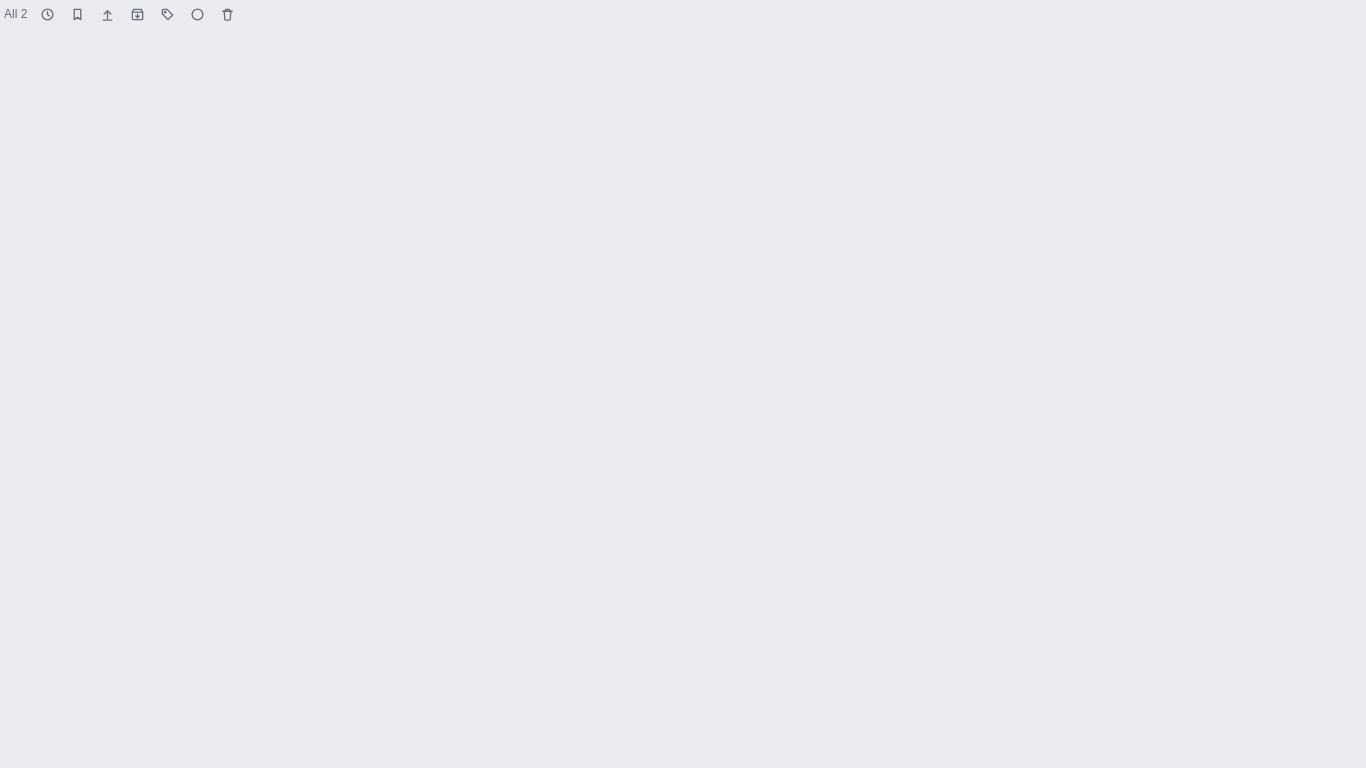
Test: bundle actions › marks seen only the emails that aren’t
What coordinates should you click on to do the following:
click the button named "Mark the whole bundle seen"
I would click on:
 (197, 14)
Its box is [183,0,211,28].
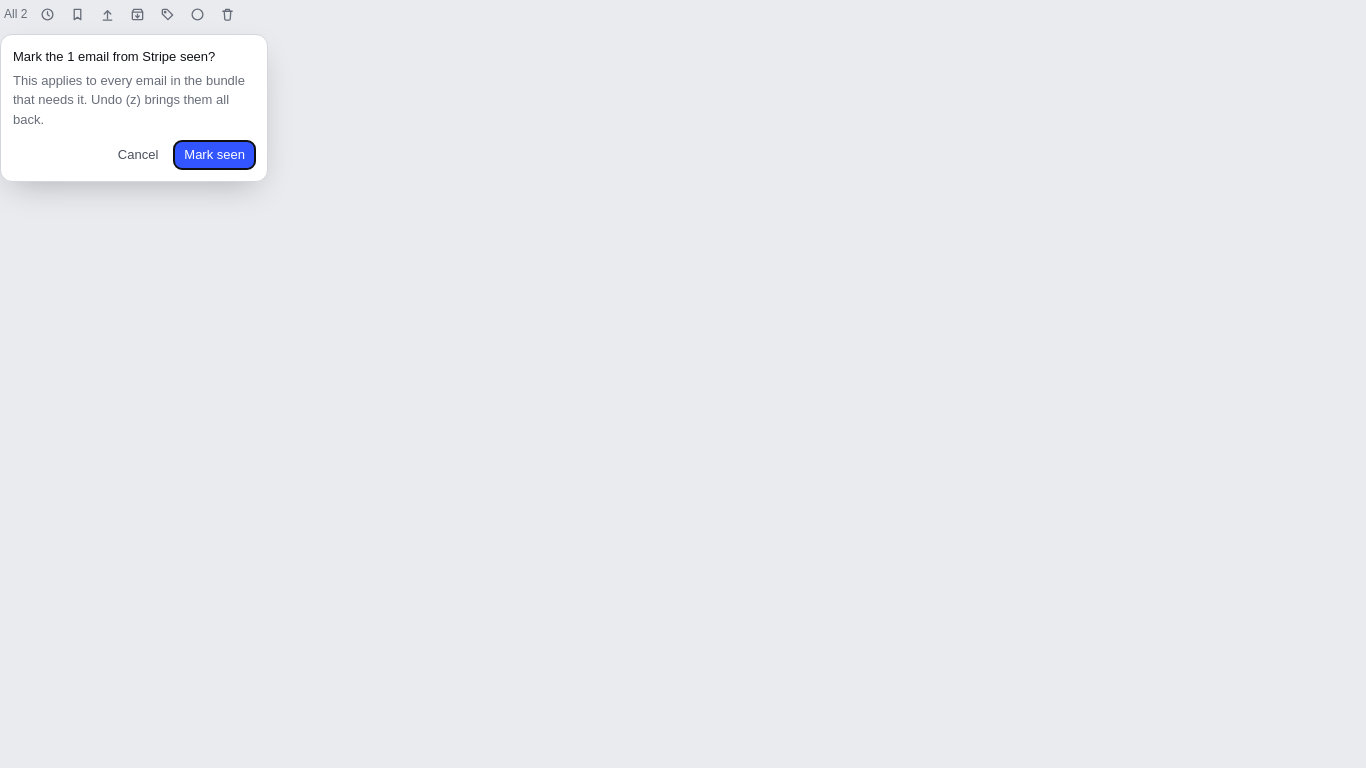
Expected: the dialog shows "Mark the 1 email from Stripe seen?", [13,49,215,64]
